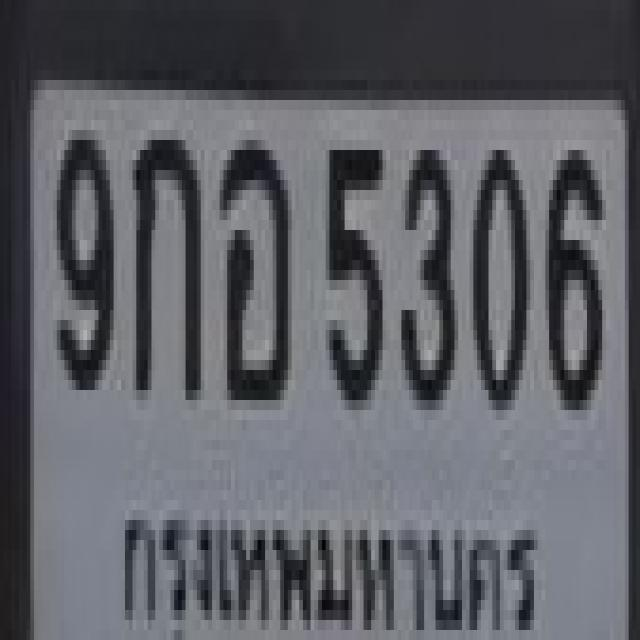-: (216, 130, 288, 390), (129, 120, 197, 390)
0: (469, 140, 526, 400)
3: (398, 140, 450, 400)
5: (322, 130, 379, 400)
6: (542, 140, 598, 400)
9: (53, 120, 110, 380)
BKK: (94, 473, 573, 640)
